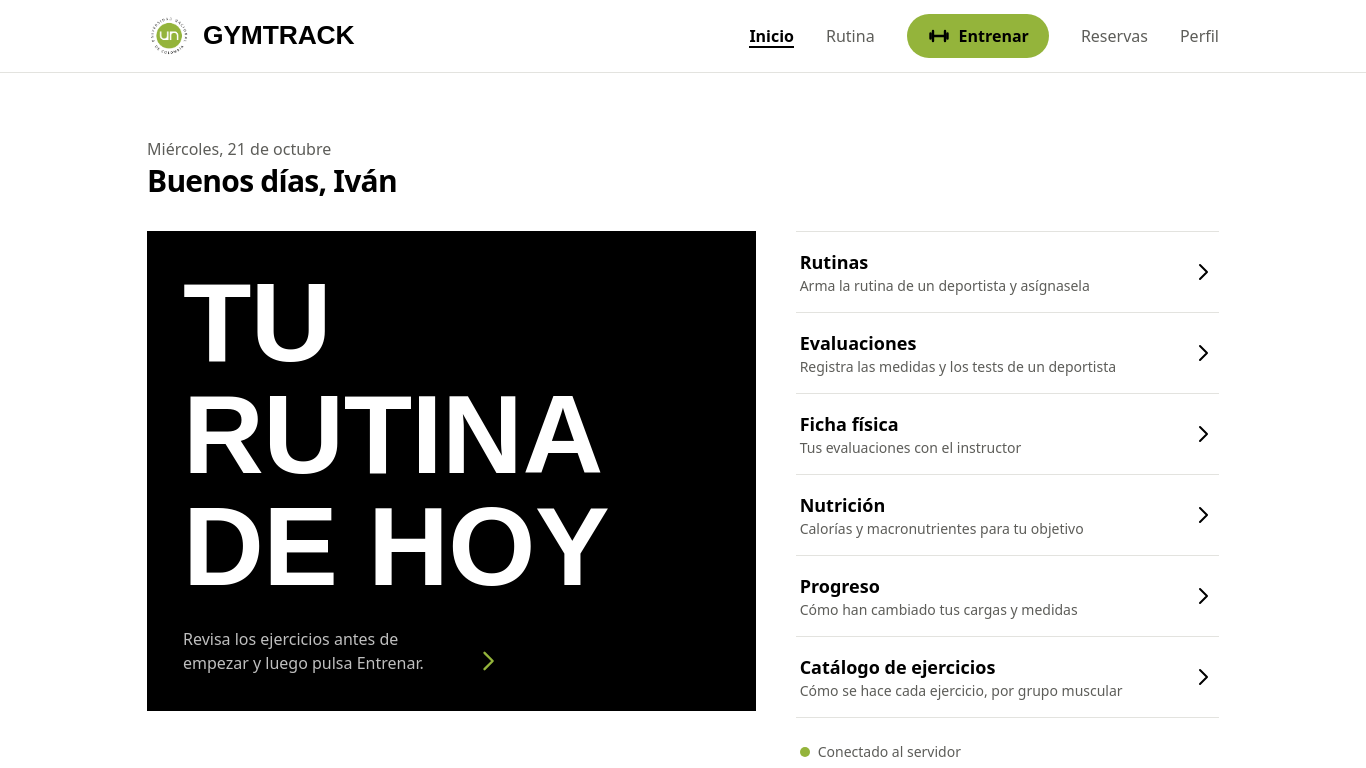
Test case: registro de evaluación (GYMM-13) › el instructor ve el acceso en Inicio, busca al deportista y ve su historial
Click the link "Evaluaciones". click: coordinates (858, 343)
box: [800, 331, 1215, 376]
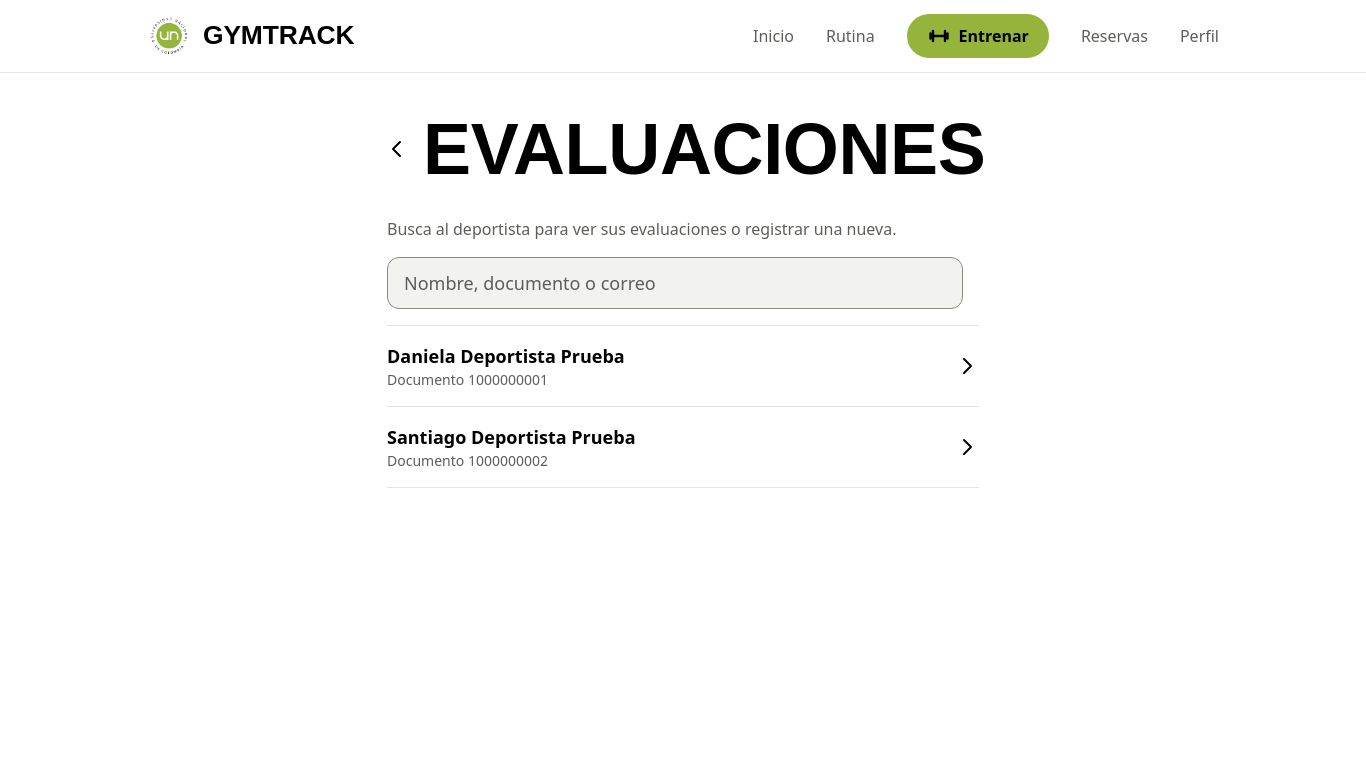
Type "santiago" into the search field named "Buscar deportista". click: coordinates (675, 283)
box: [387, 257, 963, 309]
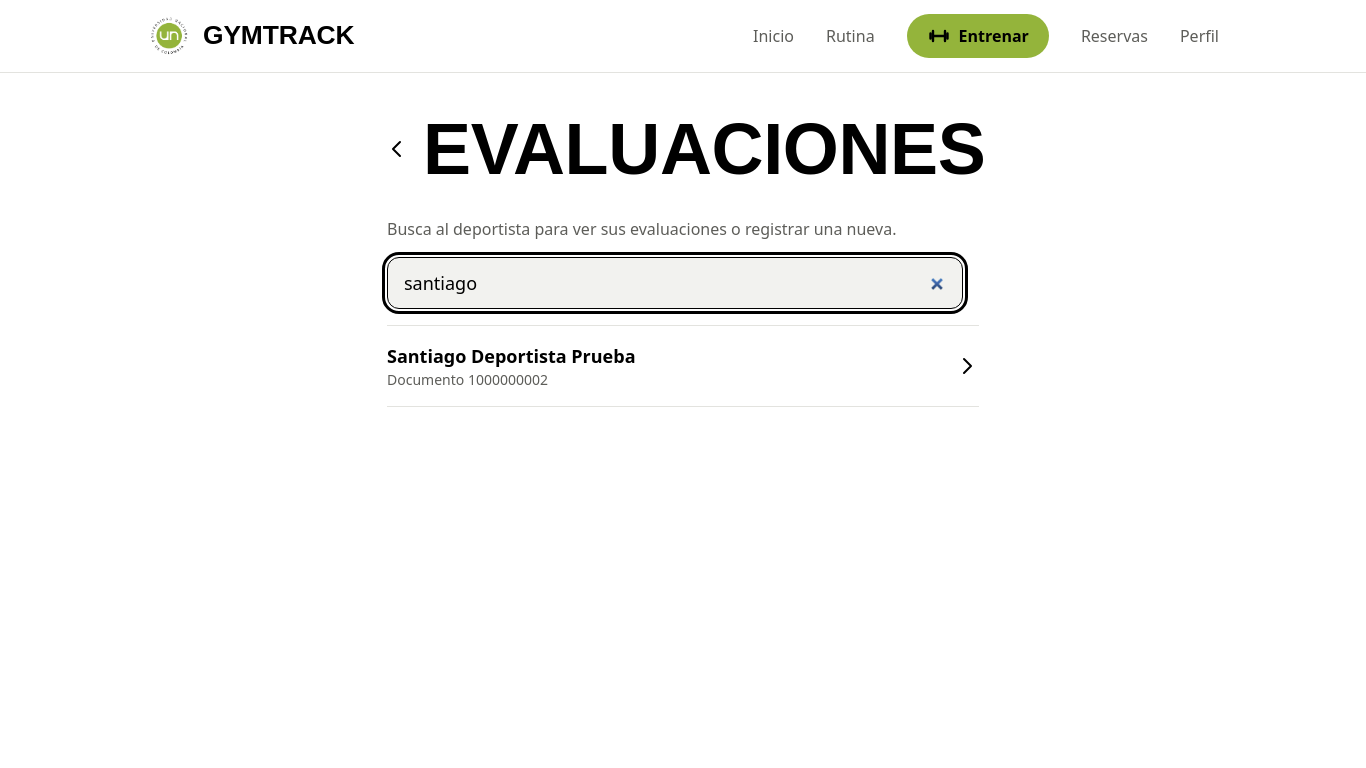
Clear the search field named "Buscar deportista". click: coordinates (675, 283)
box: [387, 257, 963, 309]
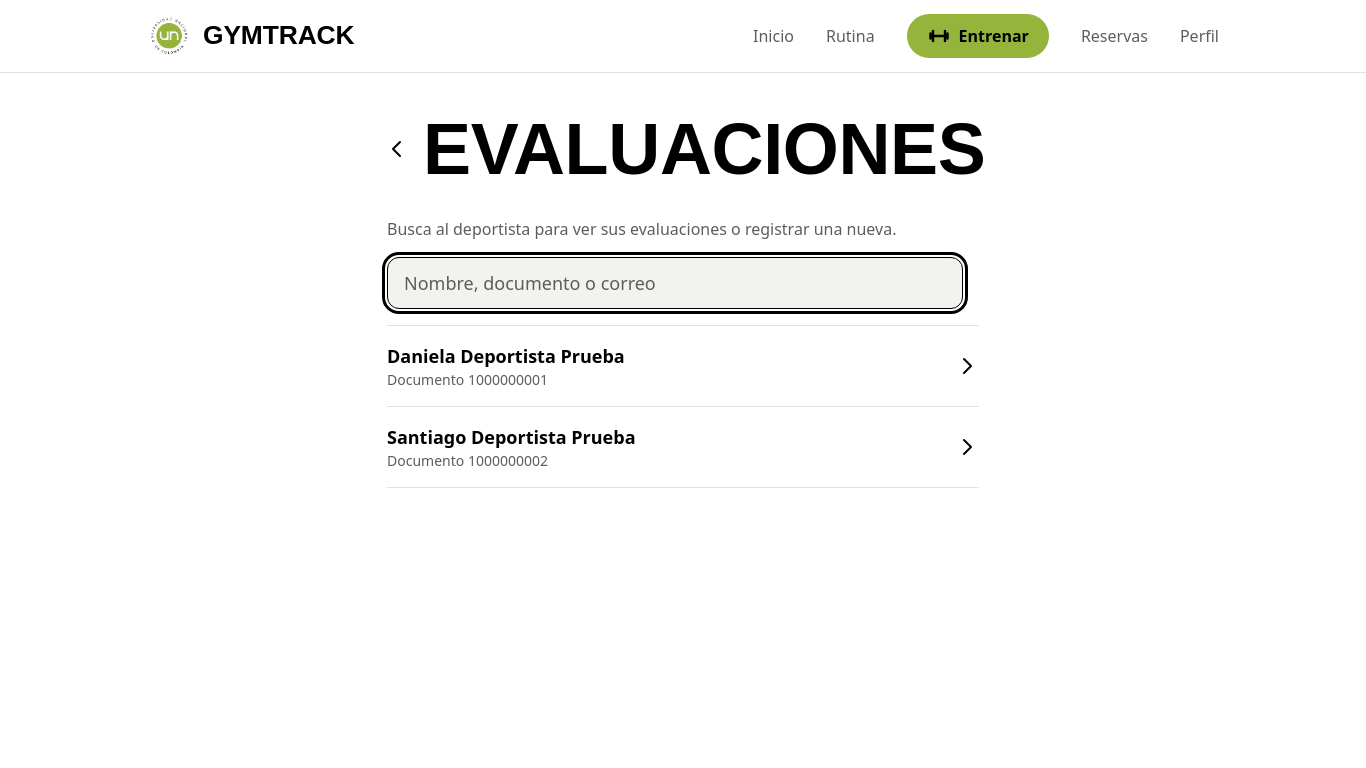
Click the link "Daniela Deportista Prueba Documento 1000000001". click: coordinates (421, 356)
box: [387, 344, 979, 389]
(page scrolled)
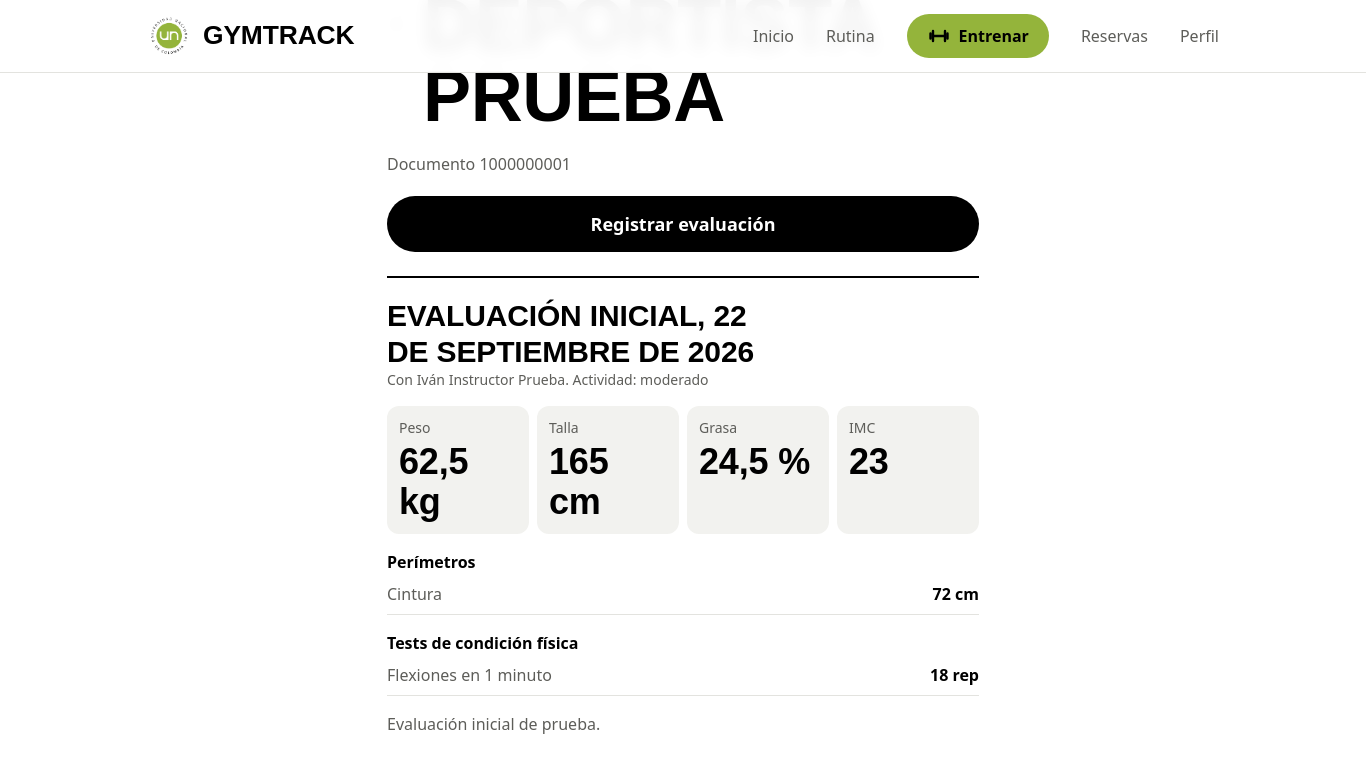
Check: the heading "Evaluación inicial, 22 de septiembre de 2026" is shown, box [387, 299, 754, 368]
Check: the text "Cintura" is shown, box [387, 582, 442, 606]
